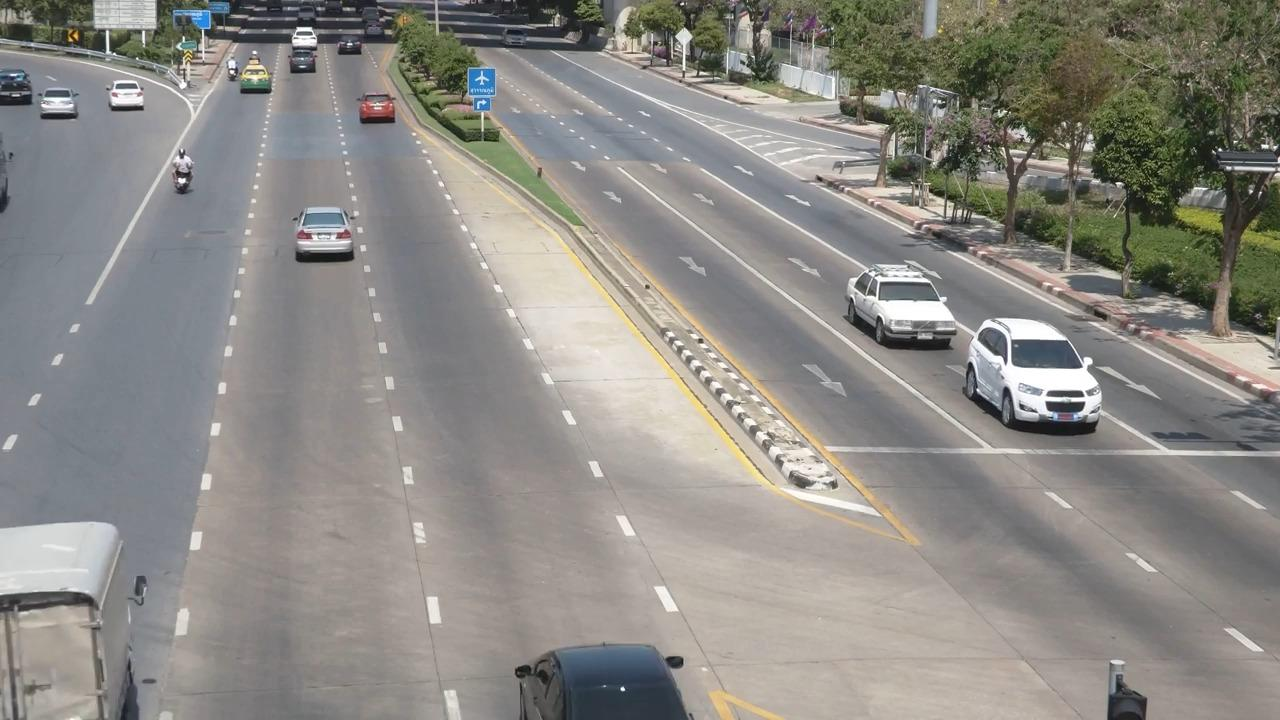CAR: (953, 309, 1107, 440), (843, 248, 961, 359), (283, 199, 370, 273), (348, 85, 411, 138), (98, 70, 160, 119), (38, 82, 91, 129), (1, 69, 41, 110), (237, 63, 279, 99), (282, 51, 326, 85), (283, 27, 327, 60), (495, 23, 531, 58), (335, 35, 365, 62)
MOTOR: (161, 135, 208, 203), (214, 54, 243, 90), (246, 40, 269, 70)
